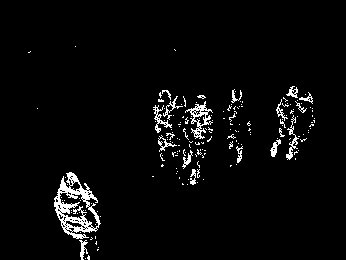person: (54, 172, 100, 260), (185, 95, 213, 185), (286, 92, 315, 160), (271, 84, 296, 156), (226, 89, 250, 163), (154, 89, 171, 166), (169, 95, 185, 160)
